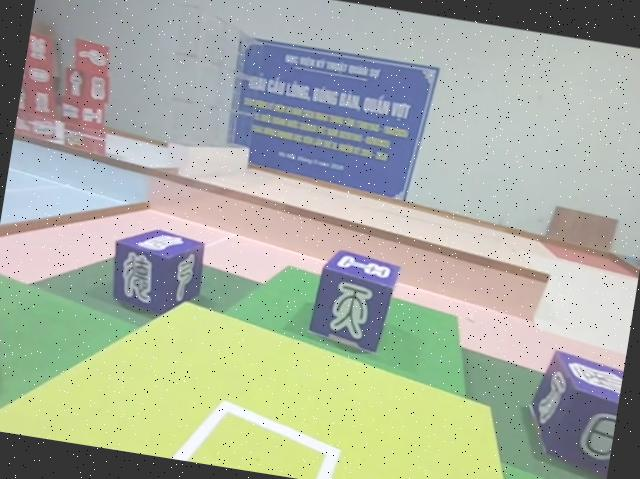R2 Fake Blue: (518, 344, 625, 479), (305, 245, 401, 356), (101, 222, 206, 322), (0, 252, 13, 404)
